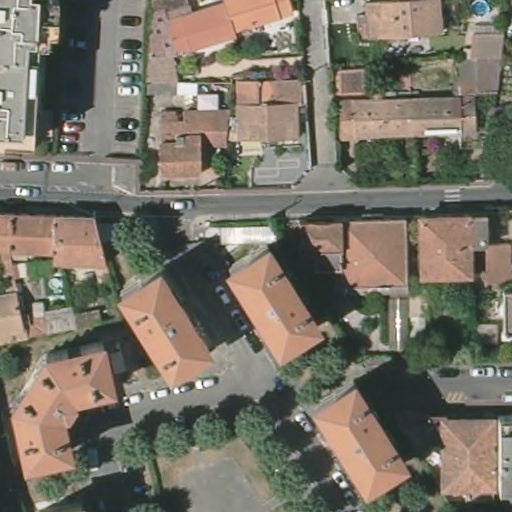pool: (466, 1, 494, 18)
